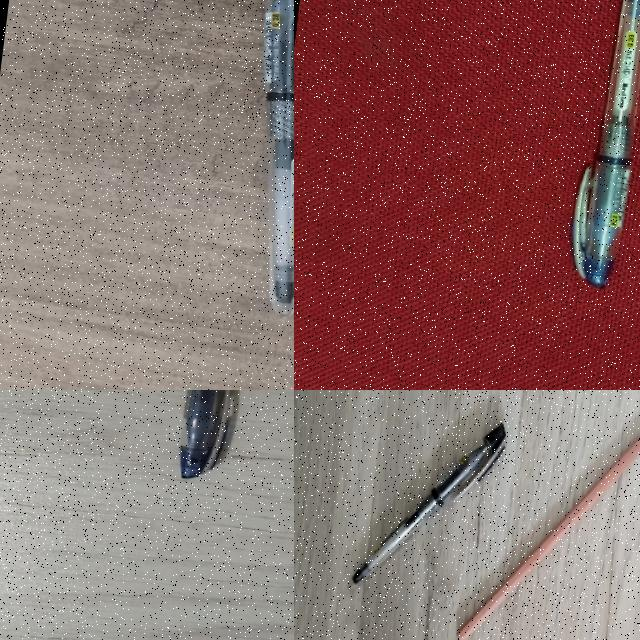pen: (352, 408, 512, 605), (572, 0, 640, 287), (264, 0, 293, 315), (179, 390, 229, 479)
pencil: (458, 436, 640, 640)
